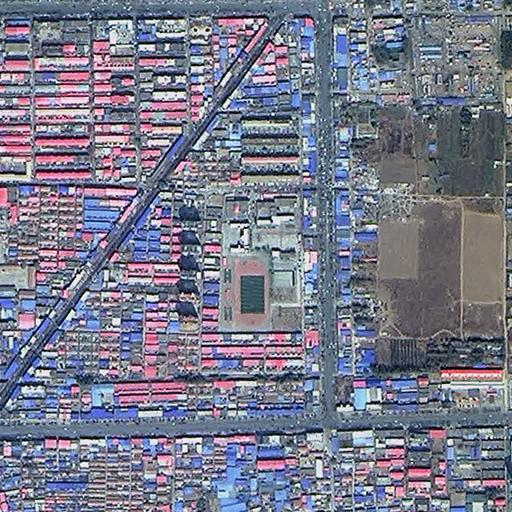school: (217, 194, 300, 330)
